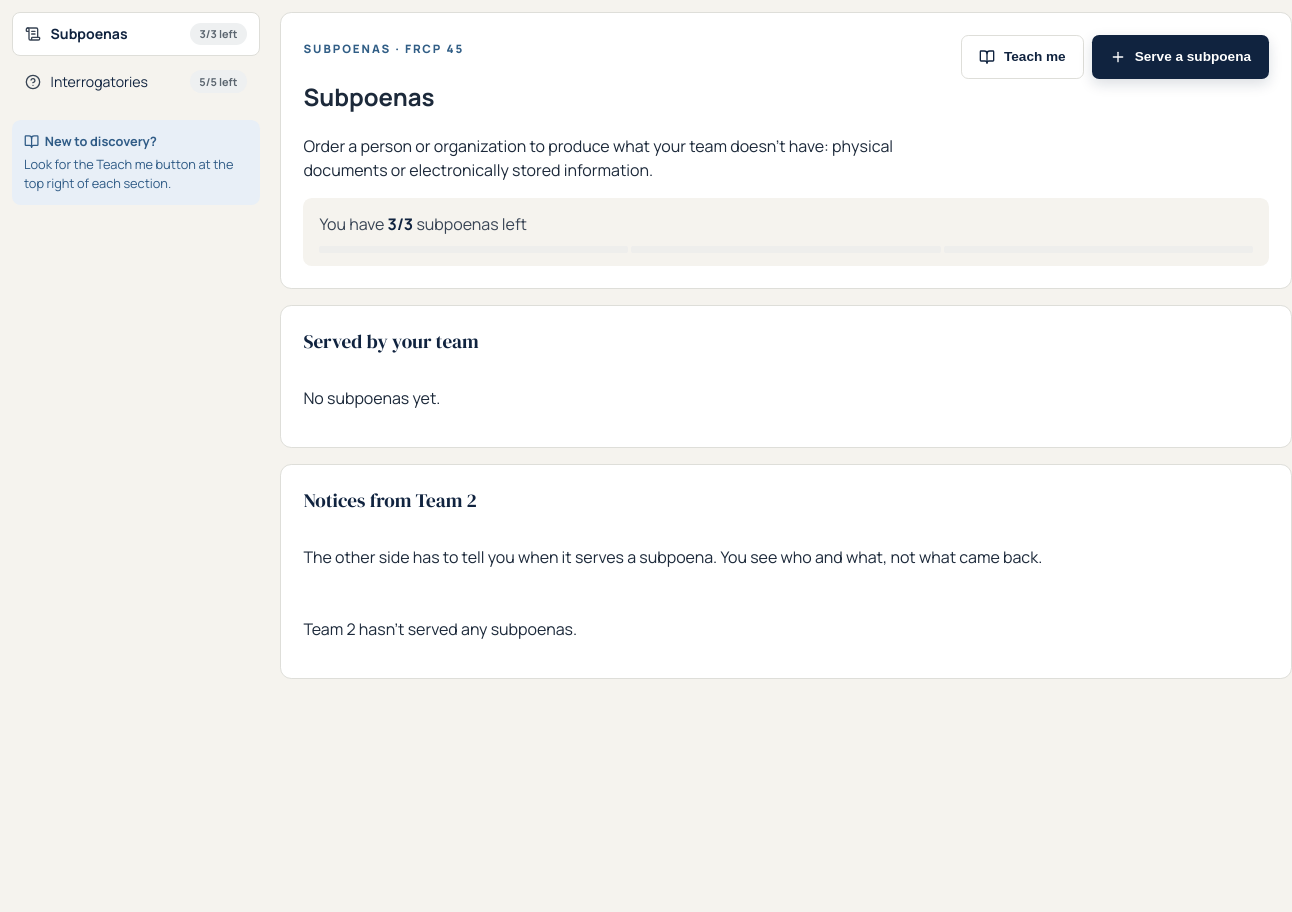
Test: Drafts of new discovery › saves and goes back with Save as draft
This screenshot has width=1292, height=912.
Click the button "Interrogatories 5/5 left" at (136, 82), box [12,60,260,104]
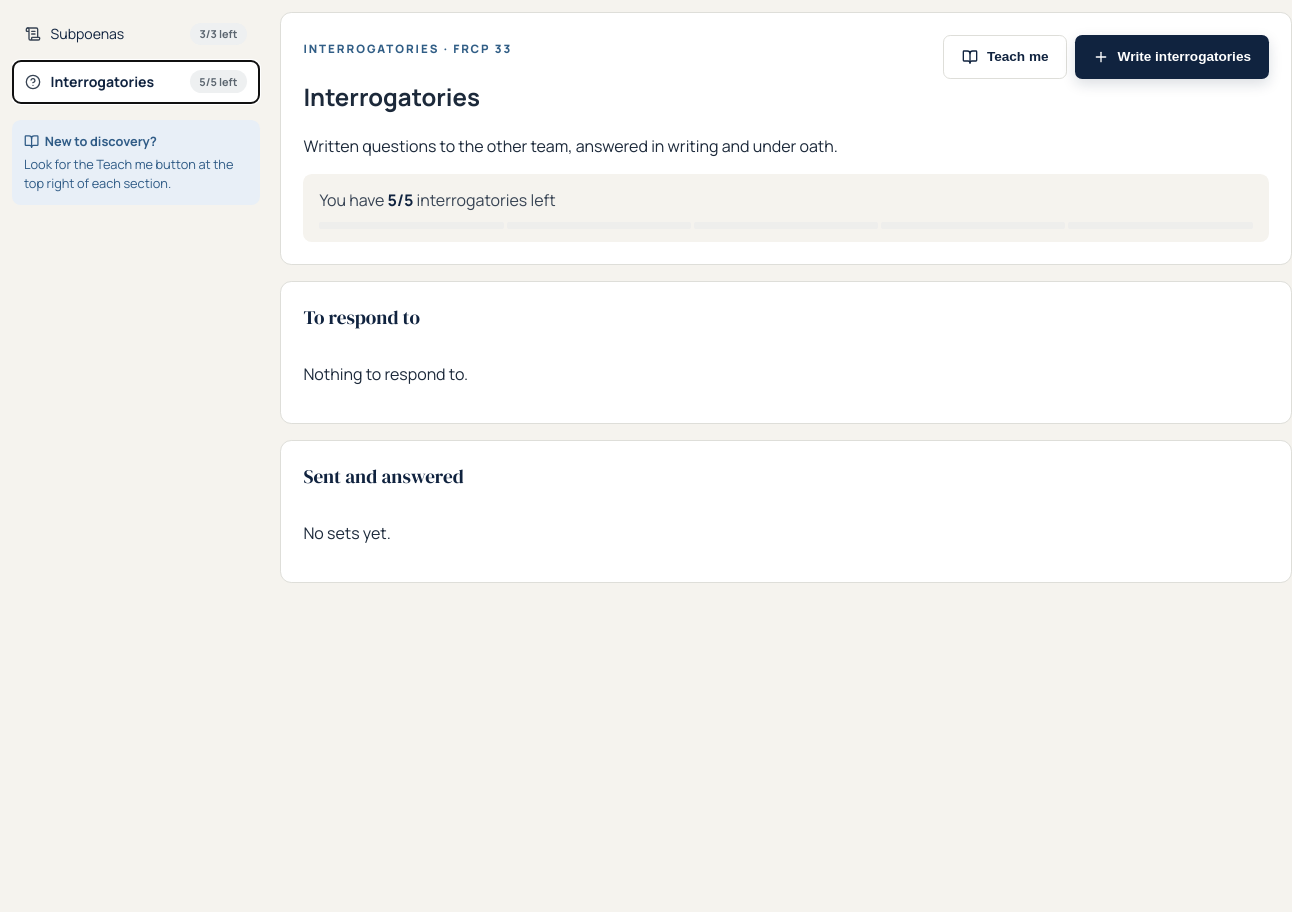
Click the button "Write interrogatories" at (1172, 57), box [1075,35,1269,79]
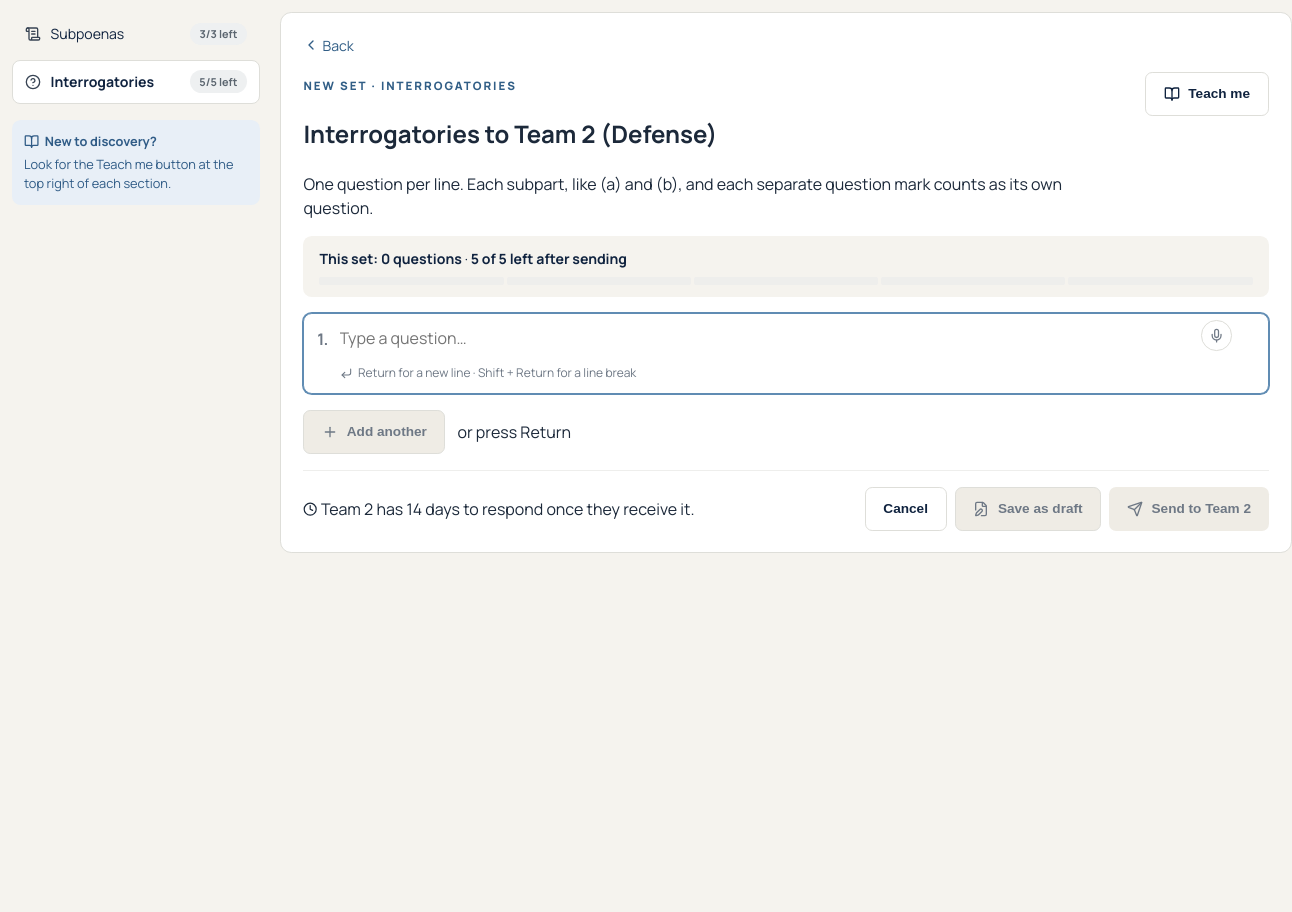
Expected: the button "Save as draft" is disabled, [954,487,1101,531]
Type "Who inspected it?" into the text box named "Question 1" at (797, 338), box [340,324,1255,353]
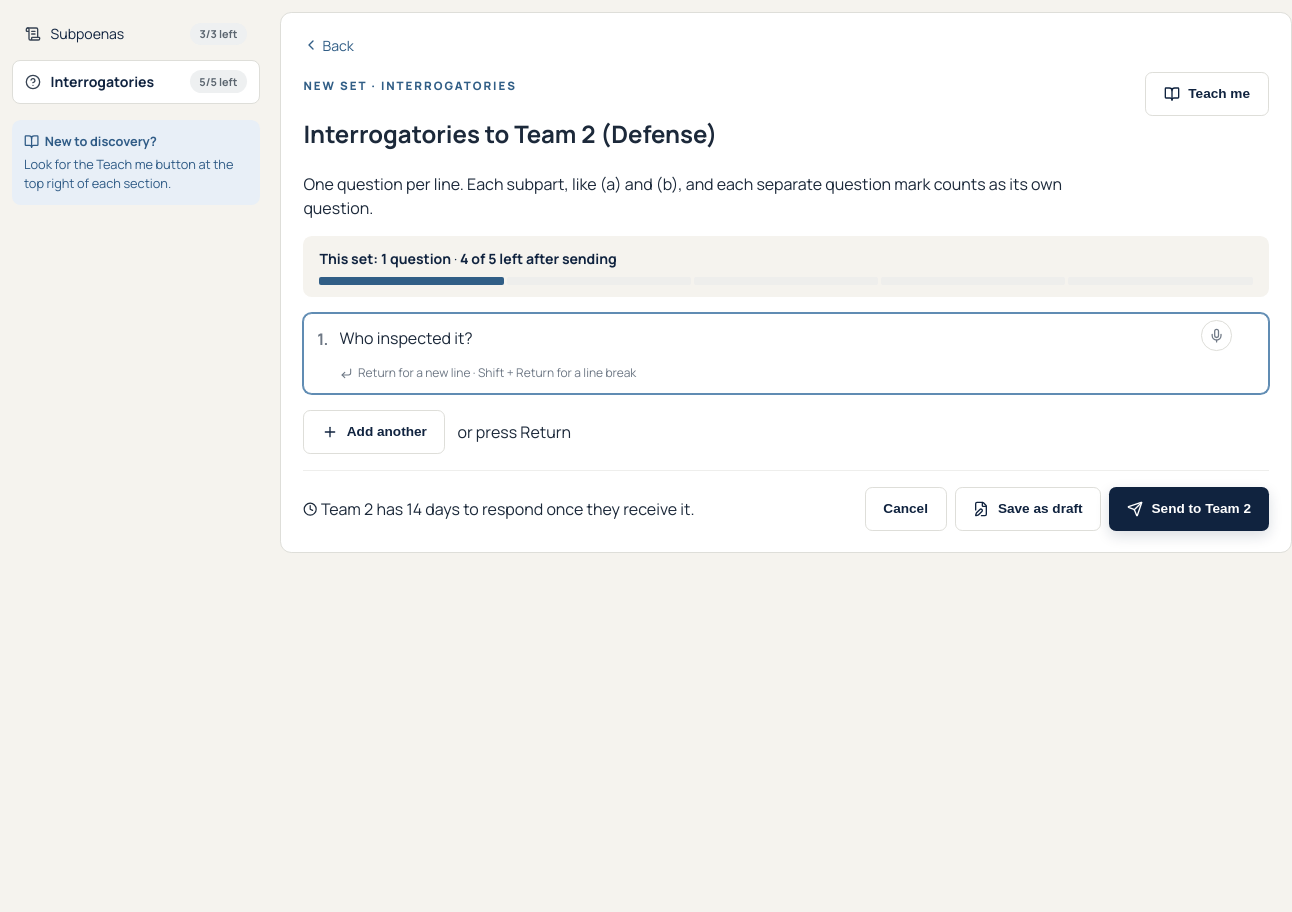
Click the button "Save as draft" at (1028, 509), box [954,487,1101,531]
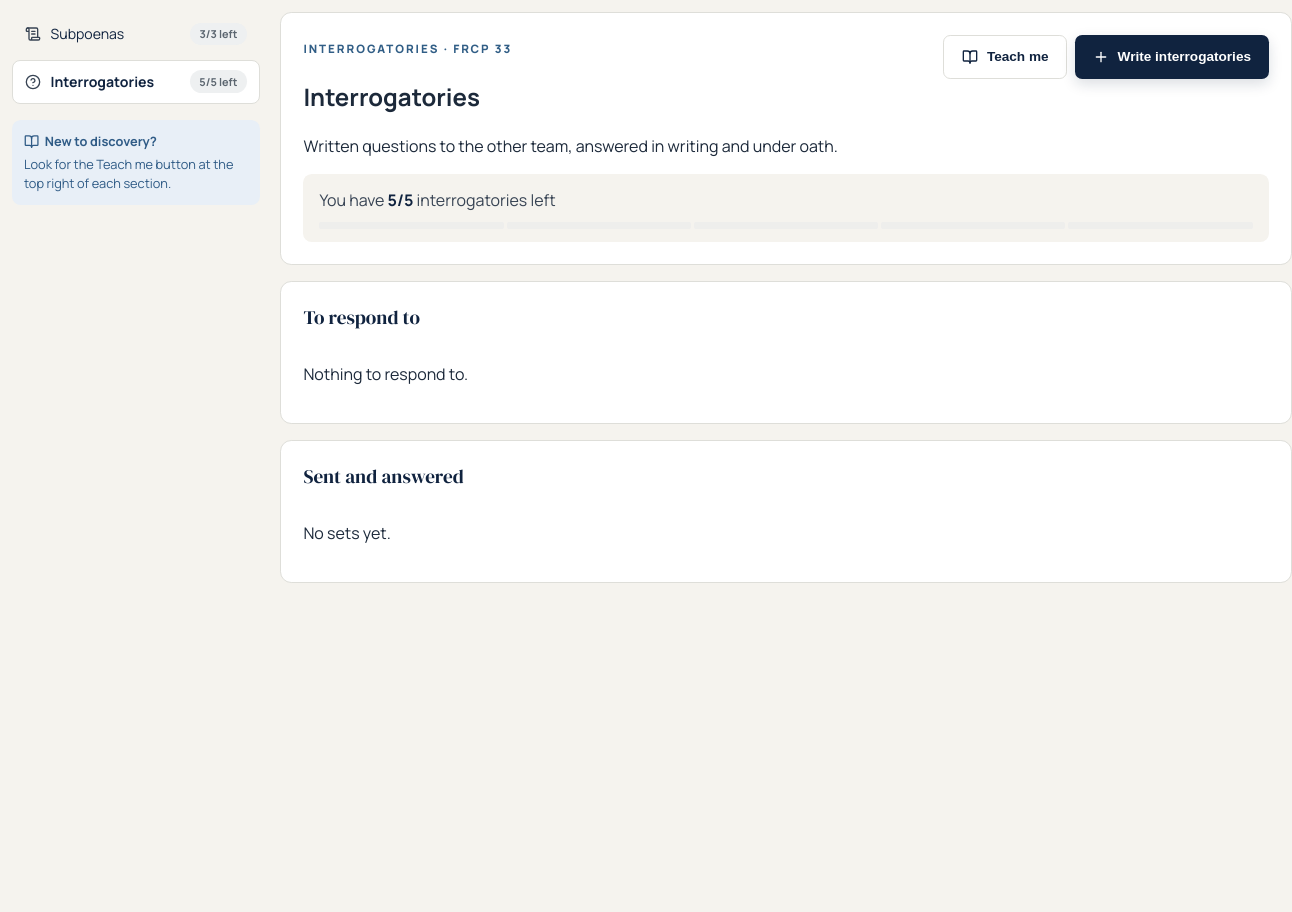
Expected: the button "Write interrogatories" is shown, [1075,35,1269,79]
